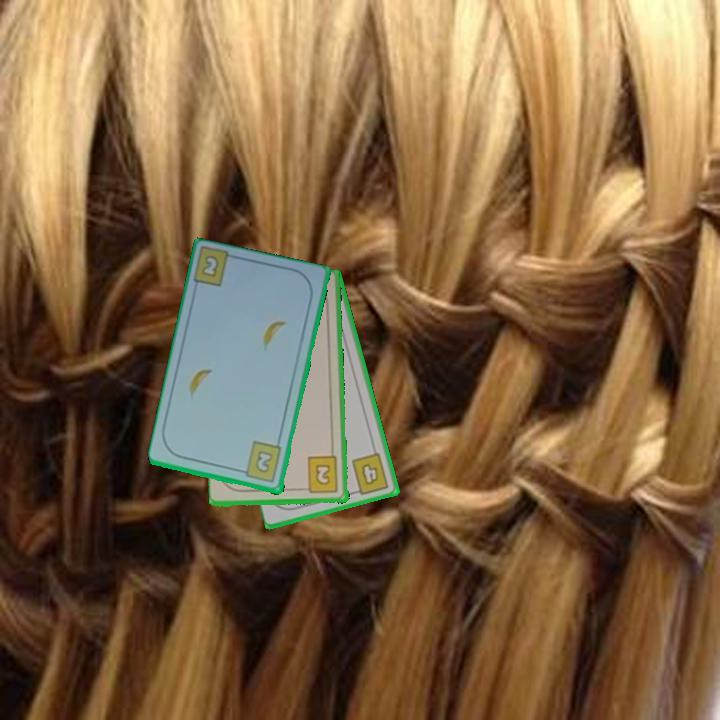2b: (237, 439, 285, 486), (299, 453, 341, 496), (200, 254, 220, 278)
4b: (348, 449, 392, 498)
